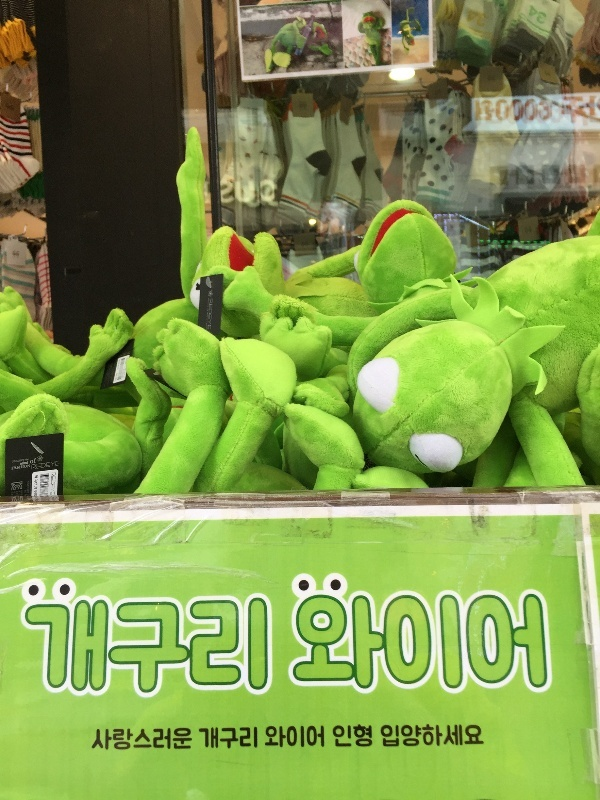text: (305, 592, 320, 692), (321, 592, 336, 692), (337, 592, 352, 692), (353, 592, 368, 692), (369, 592, 384, 692), (385, 592, 400, 692), (401, 592, 416, 692), (417, 592, 432, 692), (433, 592, 448, 692), (449, 592, 464, 692), (465, 592, 480, 692), (481, 592, 496, 692), (497, 592, 512, 692), (513, 592, 528, 692), (529, 592, 544, 692), (33, 601, 48, 698), (49, 601, 64, 698), (65, 601, 80, 698), (81, 601, 96, 698), (97, 601, 112, 698), (113, 601, 128, 698), (129, 601, 144, 698), (145, 601, 160, 698), (161, 601, 176, 698), (177, 601, 192, 698), (193, 601, 208, 698), (209, 601, 224, 698), (225, 601, 240, 698), (241, 601, 256, 698), (292, 592, 304, 692), (22, 601, 32, 698), (257, 601, 267, 698), (545, 592, 551, 692), (209, 299, 224, 331), (481, 94, 496, 126), (497, 94, 512, 126), (513, 94, 528, 126), (529, 94, 544, 126), (545, 94, 560, 126), (561, 94, 576, 126), (577, 94, 592, 126), (497, 164, 512, 192), (513, 164, 528, 192), (529, 164, 544, 192), (545, 164, 560, 192), (561, 164, 576, 192), (577, 164, 592, 192), (177, 727, 193, 752), (337, 723, 352, 748), (353, 723, 368, 748), (97, 727, 112, 752), (113, 727, 128, 752), (129, 727, 144, 752), (145, 727, 160, 752), (161, 727, 176, 752), (531, 2, 544, 29), (385, 725, 400, 748), (401, 725, 416, 748), (417, 725, 432, 748), (433, 725, 448, 748), (449, 725, 464, 748), (465, 725, 480, 748), (273, 725, 288, 748), (289, 725, 304, 748), (305, 725, 320, 748), (209, 727, 224, 750), (225, 727, 240, 750), (241, 727, 256, 750), (51, 472, 64, 496), (34, 475, 48, 496), (116, 359, 128, 382), (469, 6, 480, 31), (198, 727, 208, 750), (593, 94, 600, 126), (481, 6, 489, 31), (489, 164, 496, 192), (593, 164, 600, 192), (433, 85, 444, 100), (475, 94, 480, 126), (5, 100, 16, 114), (107, 357, 112, 387), (113, 357, 118, 387), (266, 725, 272, 748), (33, 461, 48, 470), (49, 461, 60, 470), (205, 298, 208, 331), (17, 464, 31, 471), (380, 725, 384, 748), (321, 725, 325, 748), (34, 496, 48, 502), (27, 481, 32, 497), (51, 496, 64, 502), (333, 723, 336, 748), (369, 723, 372, 748), (523, 223, 528, 238), (298, 99, 304, 111), (481, 725, 484, 748), (123, 368, 128, 381), (488, 75, 496, 83), (119, 351, 128, 358), (20, 461, 32, 466), (529, 223, 533, 238), (24, 490, 32, 497), (545, 70, 552, 78), (17, 482, 23, 491), (545, 2, 547, 29), (305, 99, 309, 111), (11, 249, 16, 258), (17, 490, 23, 497), (17, 459, 25, 464), (12, 482, 16, 491), (17, 497, 23, 503), (209, 298, 210, 331), (12, 490, 16, 497), (12, 464, 16, 471), (17, 249, 20, 258), (12, 497, 16, 503), (33, 458, 37, 464), (26, 458, 32, 462), (305, 241, 309, 247), (257, 727, 258, 750), (12, 459, 16, 464), (301, 241, 304, 247), (129, 351, 131, 358), (30, 458, 32, 464)
